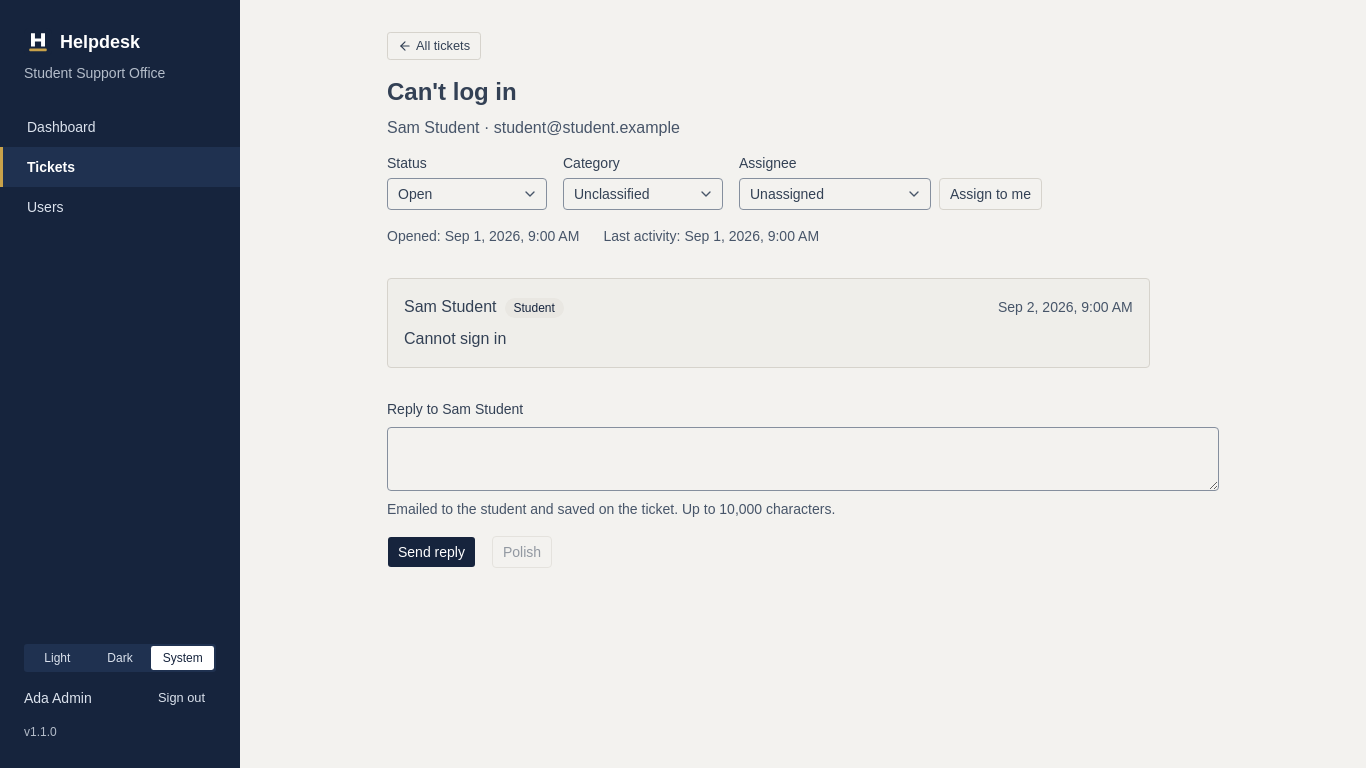
it: an agent classifies an unclassified ticket
The width and height of the screenshot is (1366, 768).
Click the dropdown named "Category": (643, 194) [563,178,723,210]
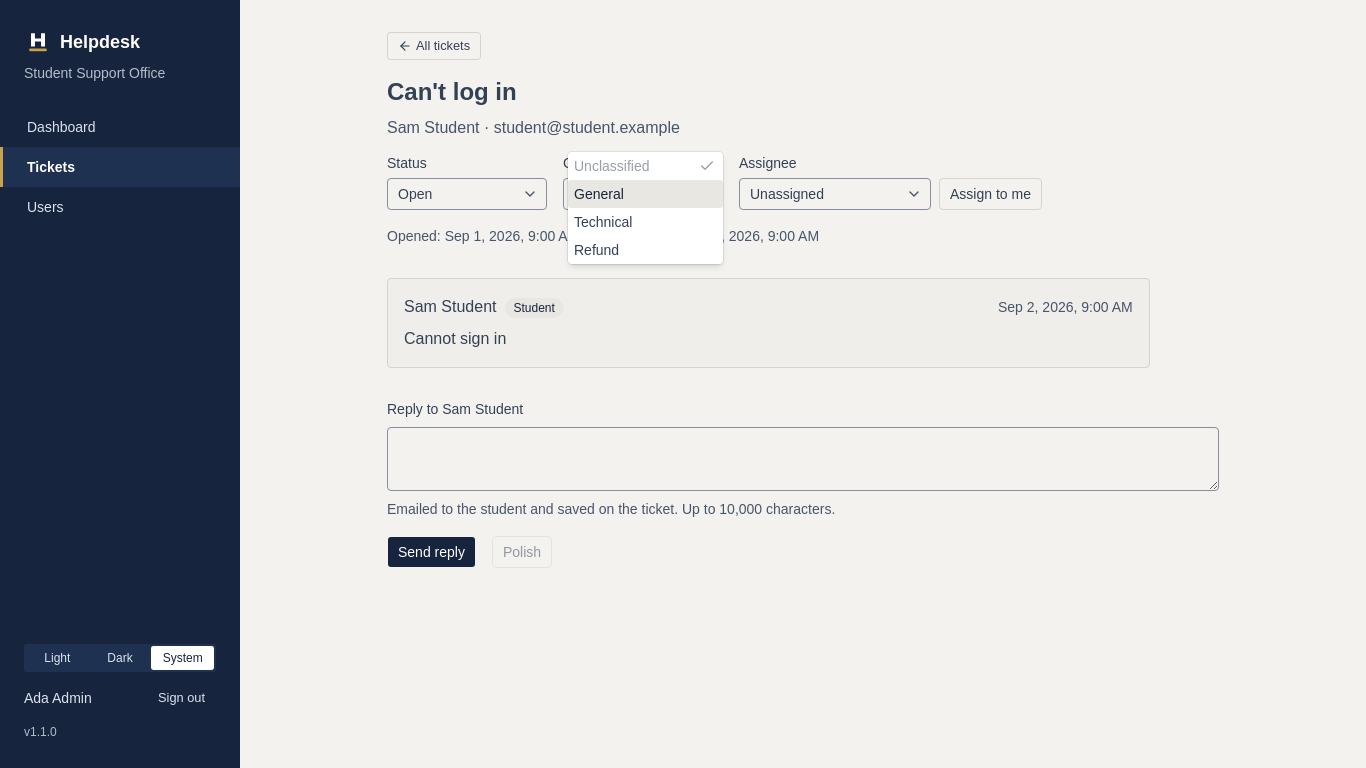
Click the option "technical": (603, 222) [574,214,632,230]
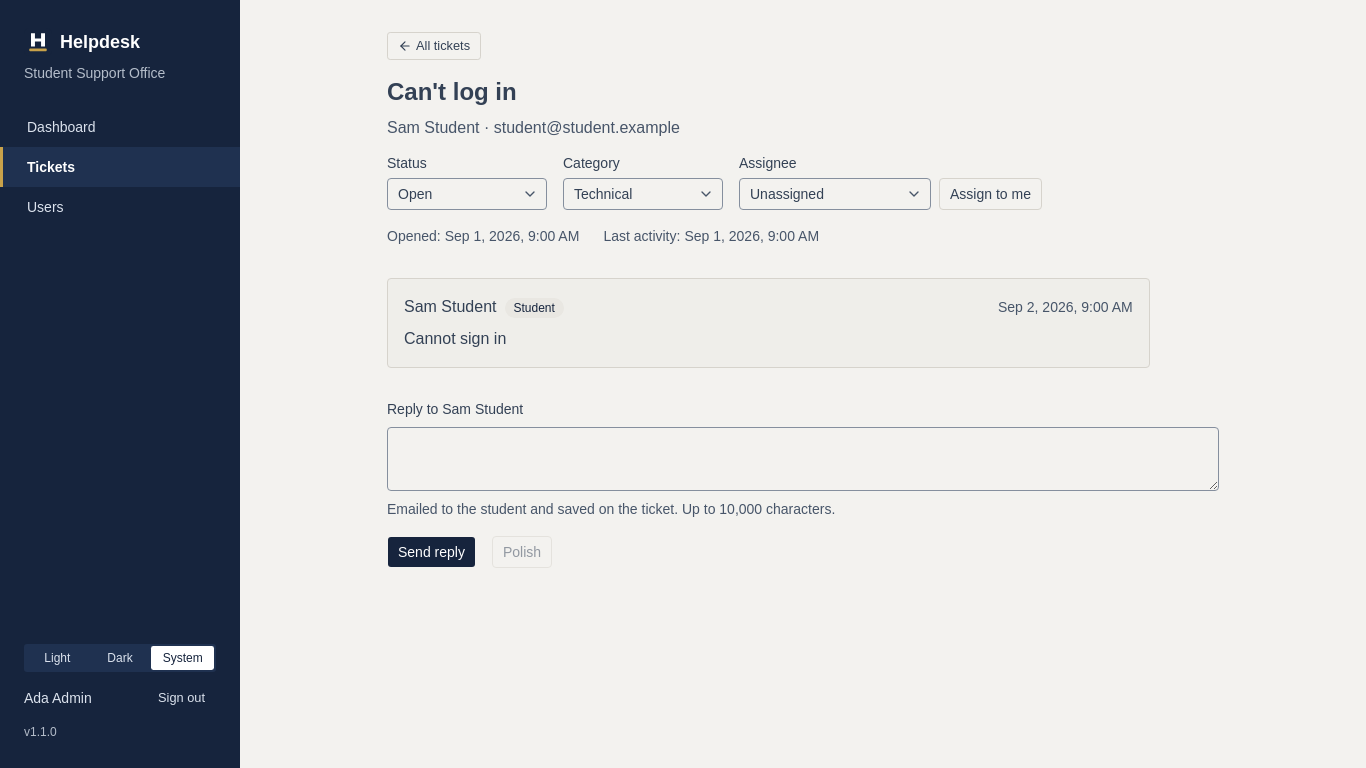
Now the dropdown named "Category" reads "technical", box [563,178,723,210]
